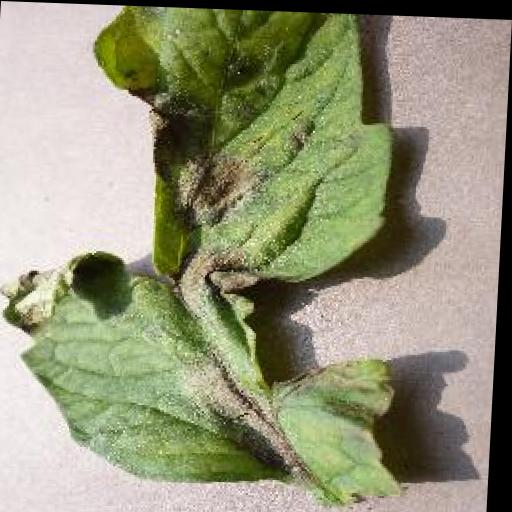Late Blight: (0, 0, 428, 508)
